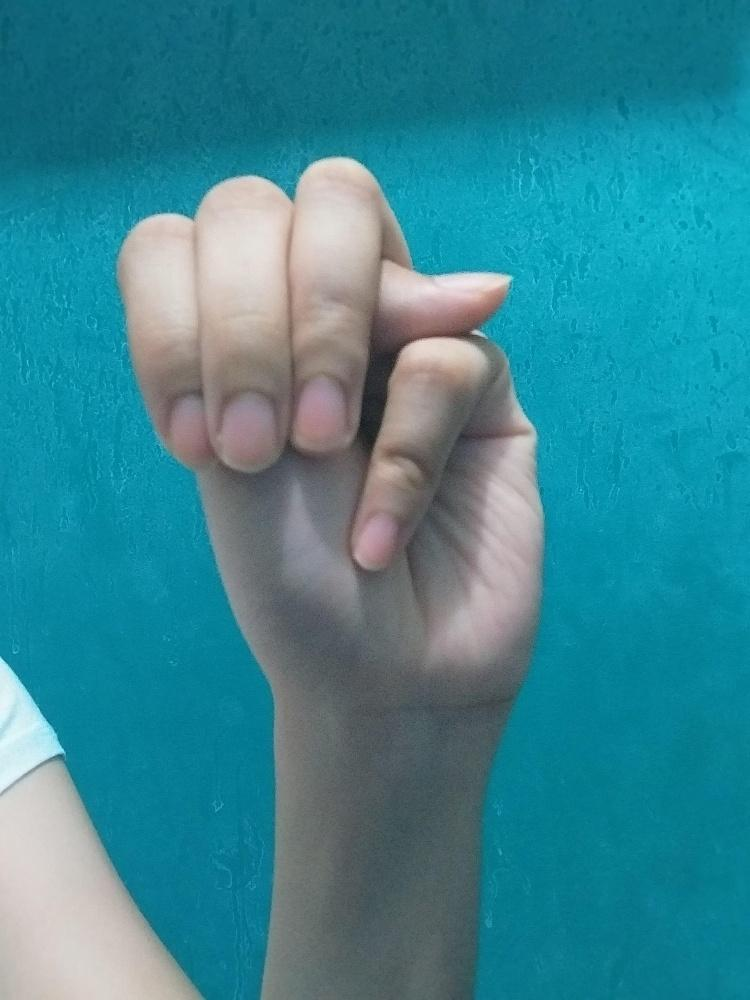m: (110, 150, 550, 711)
